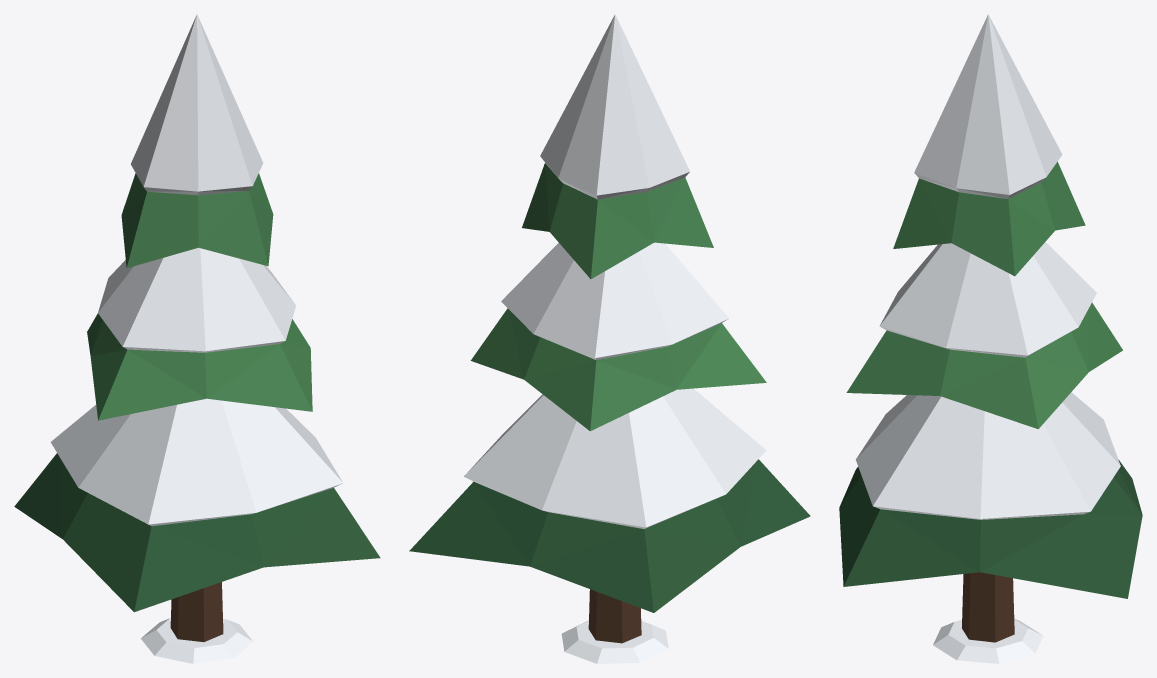
Rendered from pine_b.glb.
The picture shows the model from 3 angles, left to right: view 1: azimuth 30°, elevation 25°; view 2: azimuth 150°, elevation 25°; view 3: azimuth 270°, elevation 25°; orthographic projection.
Visible parts, largest first — view 1: Tree; view 2: Tree; view 3: Tree.
Boxes of the visible parts, box(x1,y1,x2,y2) form: Tree: box(14, 14, 380, 663); Tree: box(409, 14, 810, 663); Tree: box(839, 14, 1142, 663).
Size of the model in its own units: 2.44 by 5.5 by 2.41.
